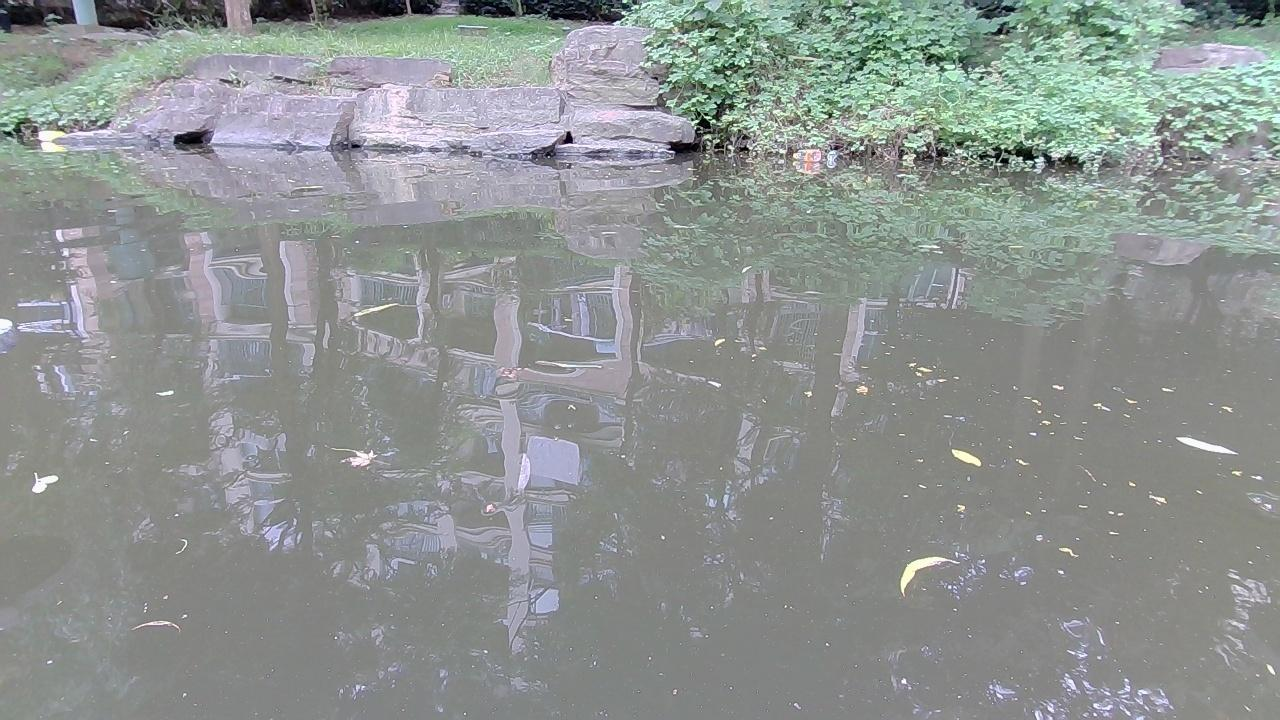bottle: (790, 147, 819, 162), (36, 129, 66, 140), (826, 150, 839, 165)
